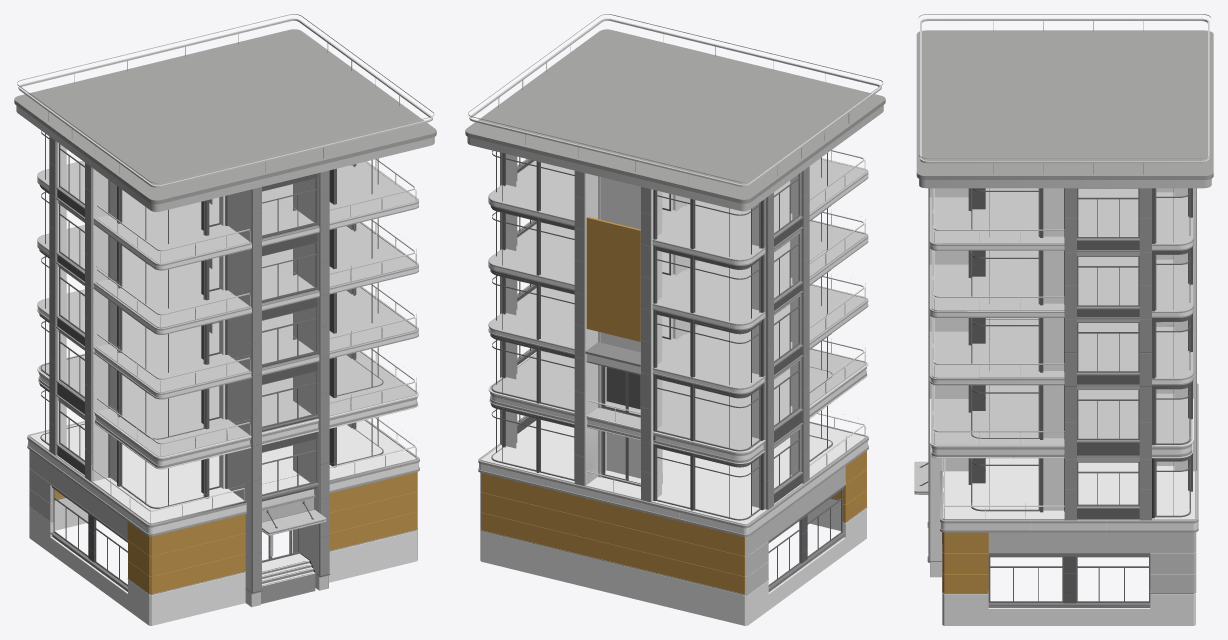
The picture shows the model from 3 angles, left to right: view 1: azimuth 30°, elevation 25°; view 2: azimuth 150°, elevation 25°; view 3: azimuth 270°, elevation 25°; orthographic projection. The views are drawn at different scales.
Parts seen in each view (by area): view 1: SM_H_Building_FutureTech_Dormitory_01; view 2: SM_H_Building_FutureTech_Dormitory_01; view 3: SM_H_Building_FutureTech_Dormitory_01.
Part boxes in pixels (x1,y1,x2,y2): SM_H_Building_FutureTech_Dormitory_01: [14, 14, 436, 625]; SM_H_Building_FutureTech_Dormitory_01: [465, 14, 885, 625]; SM_H_Building_FutureTech_Dormitory_01: [914, 14, 1213, 625].
Size of the model in its own units: 602 by 693 by 1053.
